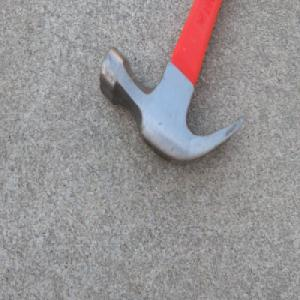Hammer: (96, 0, 248, 169)
